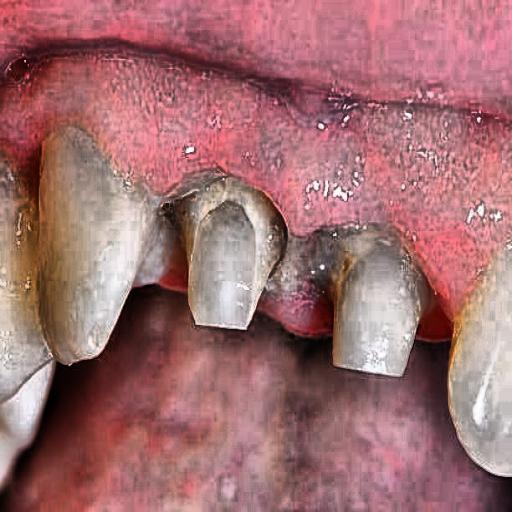Gingivitis: (2, 30, 512, 256)
